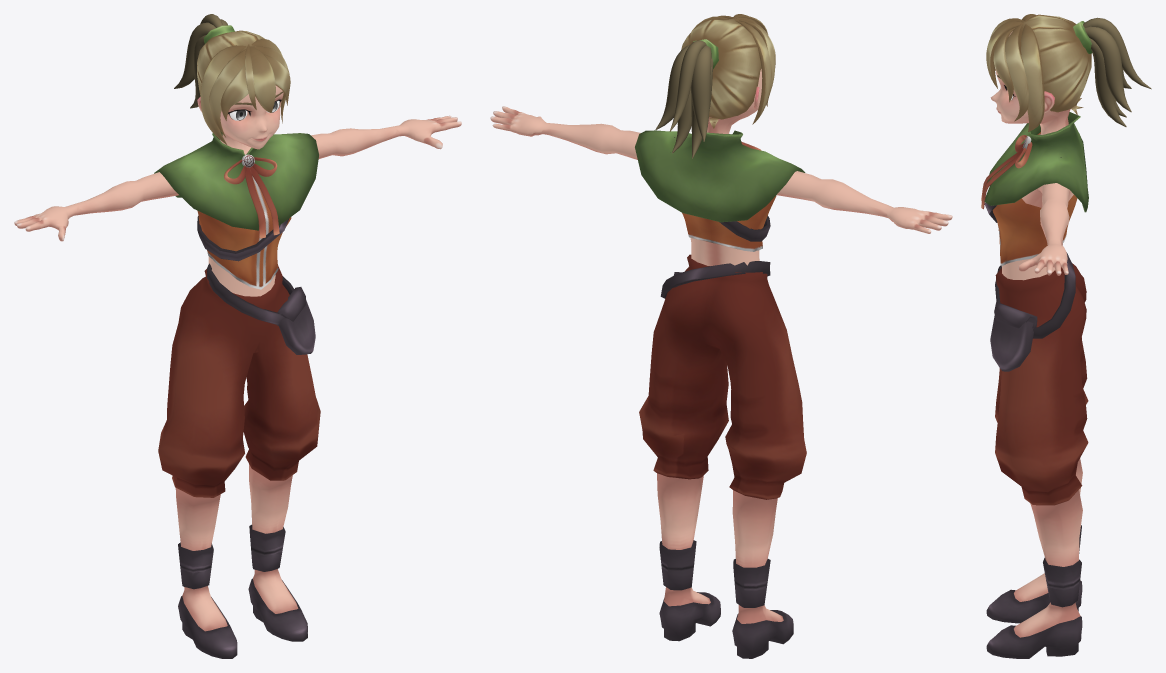
The model's file is Kiriya_v4.glb.
The picture shows the model from 3 angles, left to right: view 1: azimuth 30°, elevation 25°; view 2: azimuth 150°, elevation 25°; view 3: azimuth 270°, elevation 25°; orthographic projection. The views are drawn at different scales.
Visible parts, largest first — view 1: Pants, Kiriya, Robe, NurbsPath.005, Outfit, Pocket, Accessoris, Kiriya.002, Belt, NurbsPath.002, Baldric, NurbsPath.011; view 2: Pants, Robe, Kiriya, Kiriya.002, NurbsPath.011, Outfit, NurbsPath.005, Belt, NurbsPath.010, NurbsPath.009; view 3: Pants, Robe, Kiriya, Kiriya.002, NurbsPath.005, Outfit, Pocket, NurbsPath.011, Belt, NurbsPath.009, NurbsPath.010, Accessoris (+2 smaller).
Boxes of the visible parts, <box> form: Pants: <box>158,265,320,658</box>; Kiriya: <box>14,85,461,296</box>; Robe: <box>154,131,318,230</box>; NurbsPath.005: <box>200,38,290,144</box>; Outfit: <box>197,140,291,289</box>; Pocket: <box>277,287,315,354</box>; Accessoris: <box>224,157,279,238</box>; Kiriya.002: <box>197,30,264,96</box>; Belt: <box>207,263,293,324</box>; NurbsPath.002: <box>249,46,275,112</box>; Baldric: <box>197,215,289,261</box>; NurbsPath.011: <box>174,19,227,88</box>; Pants: <box>639,254,806,658</box>; Robe: <box>635,130,805,222</box>; Kiriya: <box>490,69,952,265</box>; Kiriya.002: <box>681,19,761,119</box>; NurbsPath.011: <box>655,45,711,141</box>; Outfit: <box>682,195,776,251</box>; NurbsPath.005: <box>691,15,775,124</box>; Belt: <box>660,261,770,298</box>; NurbsPath.010: <box>669,40,706,131</box>; NurbsPath.009: <box>672,57,713,158</box>; Pants: <box>986,263,1088,658</box>; Robe: <box>984,112,1088,212</box>; Kiriya: <box>990,31,1073,280</box>; Kiriya.002: <box>1018,14,1091,112</box>; NurbsPath.005: <box>993,14,1044,131</box>; Outfit: <box>992,132,1077,266</box>; Pocket: <box>990,302,1037,371</box>; NurbsPath.011: <box>1084,26,1131,112</box>; Belt: <box>995,252,1075,338</box>; NurbsPath.009: <box>1089,38,1126,126</box>; NurbsPath.010: <box>1083,17,1151,89</box>; Accessoris: <box>981,135,1032,209</box>.
Bounding box in the file's own units: 2.46 × 3.19 × 0.8011.
Materials: 2 (1 with a texture image).
